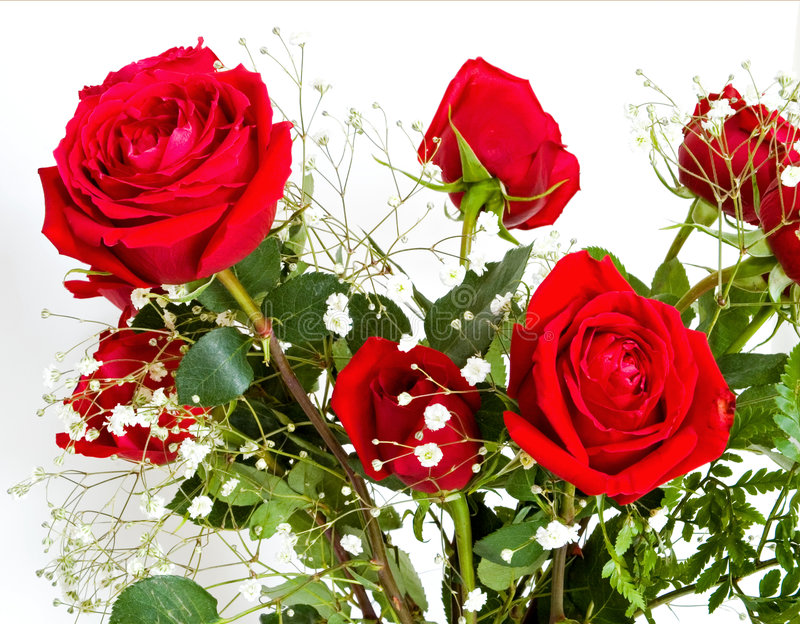RedRose: (29, 21, 303, 313), (503, 233, 748, 484), (438, 62, 588, 235)
